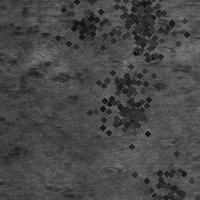rolled-in_scale: (1, 22, 80, 151), (74, 48, 170, 144), (102, 0, 182, 68), (125, 147, 200, 200), (121, 41, 195, 93), (49, 0, 117, 55), (106, 0, 174, 41), (110, 94, 150, 134)
